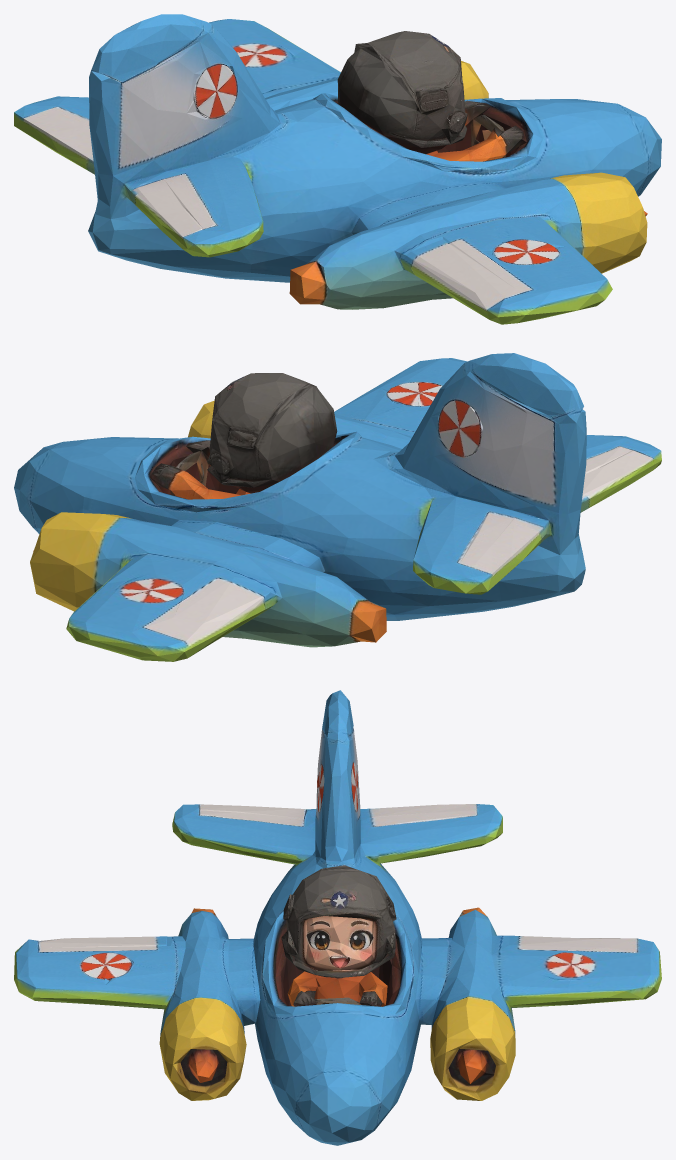
The model's file is tripo_convert_d700d58f-2a65-4085-beac-ce4486724970.obj.
The picture shows the model from 3 angles, top to bottom: view 1: azimuth 30°, elevation 25°; view 2: azimuth 150°, elevation 25°; view 3: azimuth 270°, elevation 25°; orthographic projection. The views are drawn at different scales.
Visible parts, largest first — view 1: tripo_node_d700d58f-2a65-4085-beac-ce4486724970; view 2: tripo_node_d700d58f-2a65-4085-beac-ce4486724970; view 3: tripo_node_d700d58f-2a65-4085-beac-ce4486724970.
Boxes of the visible parts, left/top/right/bottom form: tripo_node_d700d58f-2a65-4085-beac-ce4486724970: left=14, top=14, right=661, bottom=324; tripo_node_d700d58f-2a65-4085-beac-ce4486724970: left=14, top=353, right=661, bottom=661; tripo_node_d700d58f-2a65-4085-beac-ce4486724970: left=14, top=690, right=661, bottom=1145.
Size of the model in its own units: 0.8552 by 0.4454 by 0.9805.
Materials: 1 (1 with a texture image).
